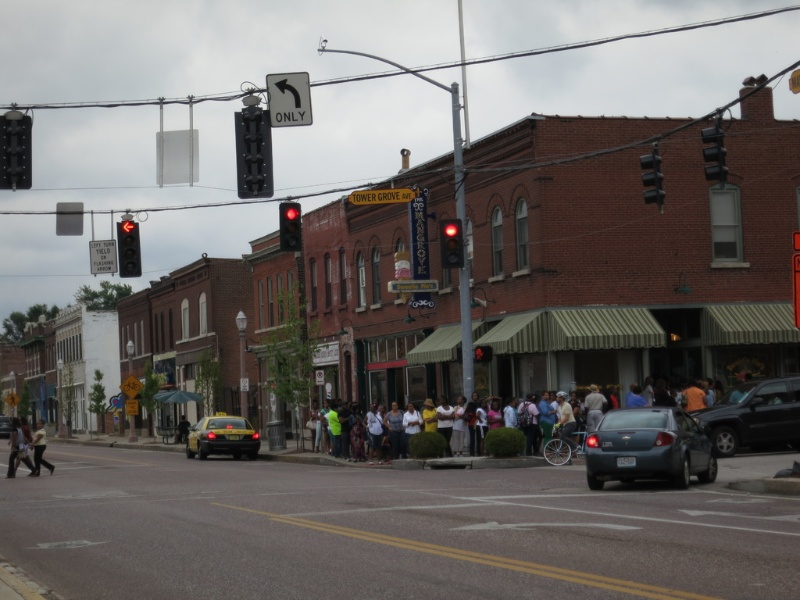red_light: (275, 199, 299, 223), (437, 225, 463, 244), (116, 218, 137, 237)
